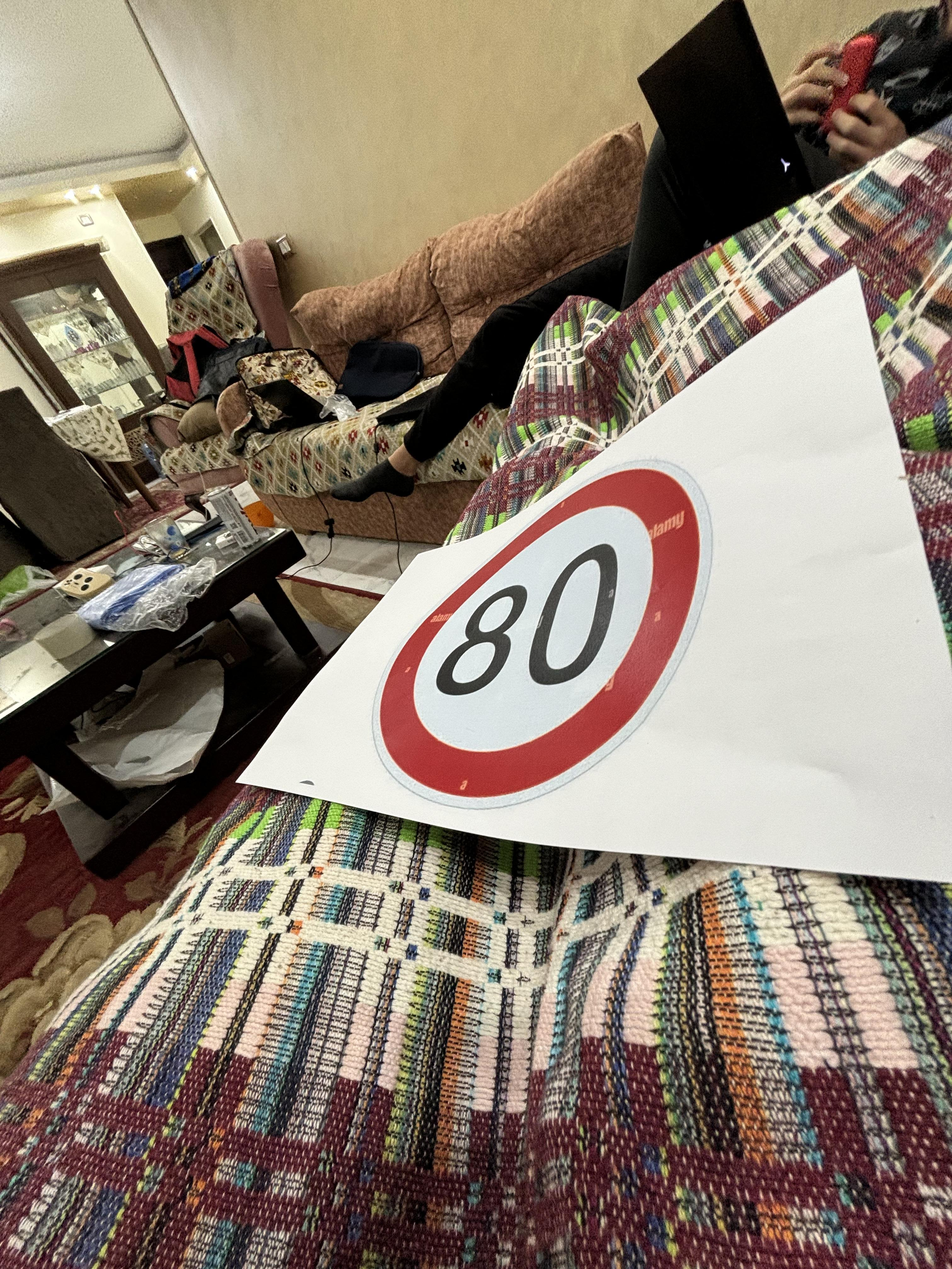80-Speed: (372, 466, 707, 812)
